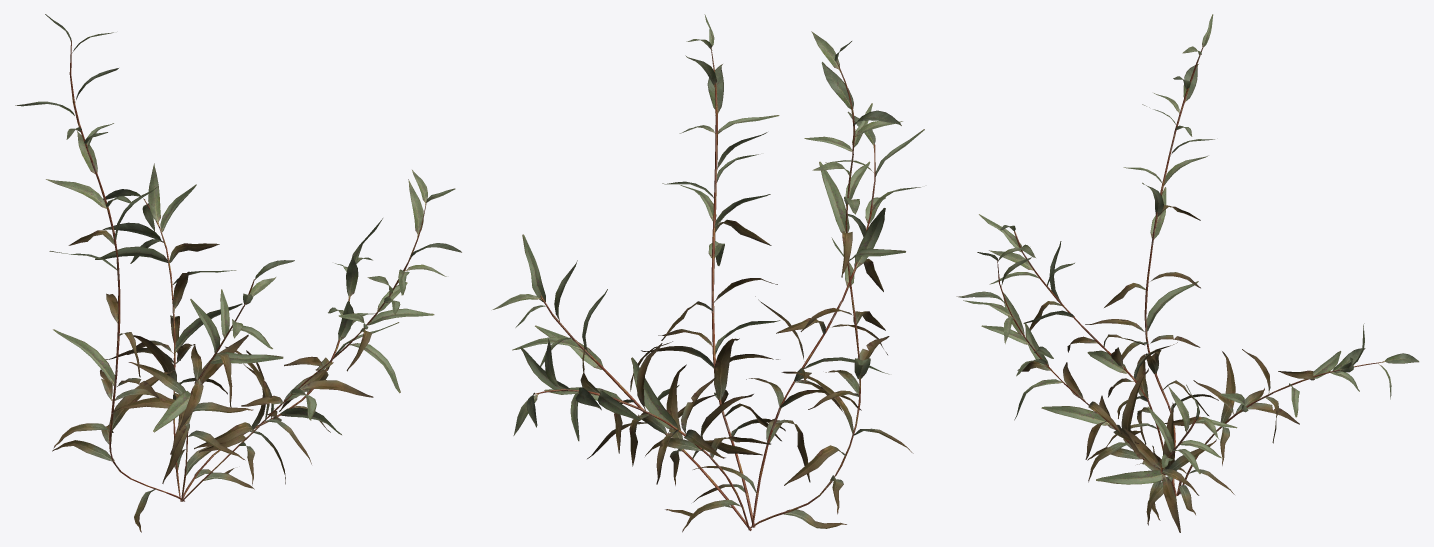
Rendered from shrub.glb.
The picture shows the model from 3 angles, left to right: view 1: azimuth 30°, elevation 25°; view 2: azimuth 150°, elevation 25°; view 3: azimuth 270°, elevation 25°; orthographic projection. The views are drawn at different scales.
Visible parts, largest first — view 1: shrub_02_a; view 2: shrub_02_a; view 3: shrub_02_a.
Boxes of the visible parts, box(x1,y1,x2,y2) form: shrub_02_a: box(15, 14, 461, 532); shrub_02_a: box(492, 14, 924, 532); shrub_02_a: box(956, 14, 1419, 532).
Bounding box in the file's own units: 1.31 × 1.69 × 1.64.
1 material, 1 textured.
